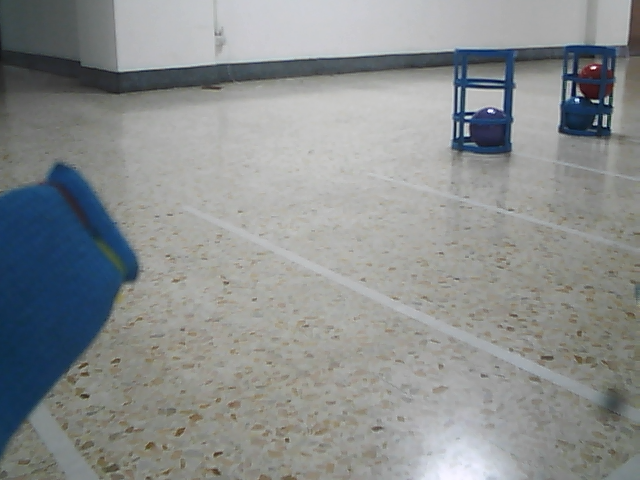Blue ball: (563, 96, 595, 131)
Cyro: (450, 47, 515, 155), (557, 43, 618, 139)
Purple ball: (468, 105, 506, 148)
Red ball: (579, 63, 615, 100)
